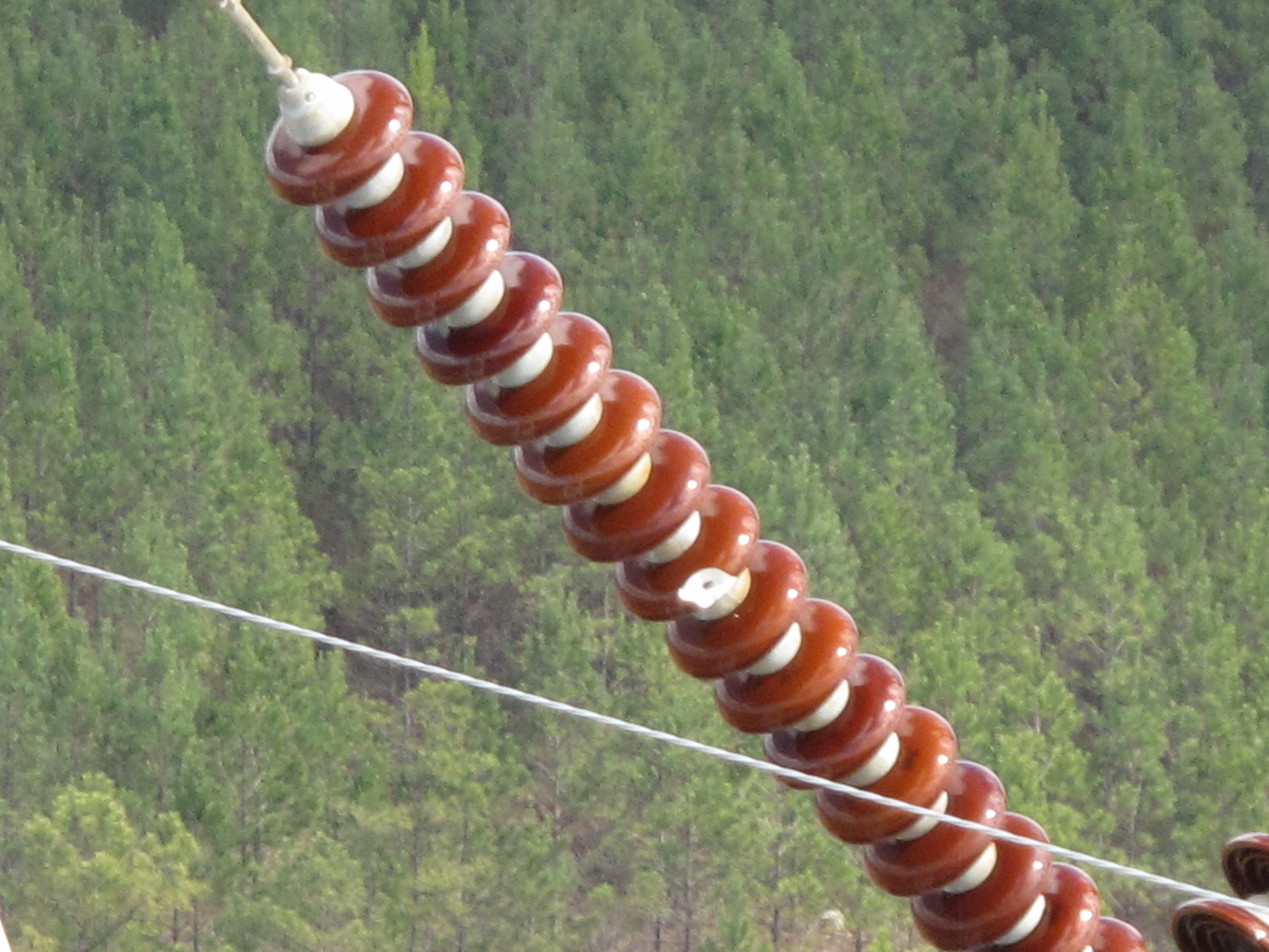damaged: (674, 556, 737, 611)
insulator: (263, 66, 1149, 952), (1175, 820, 1269, 952)
